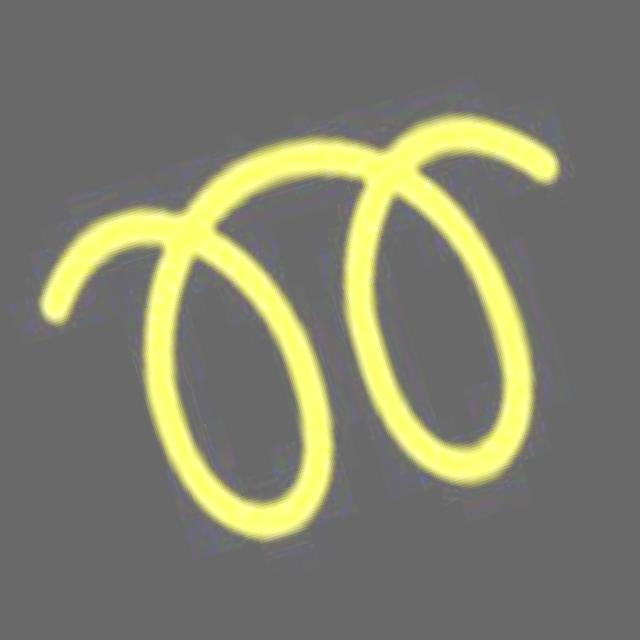kontrolka: (0, 24, 640, 607)
